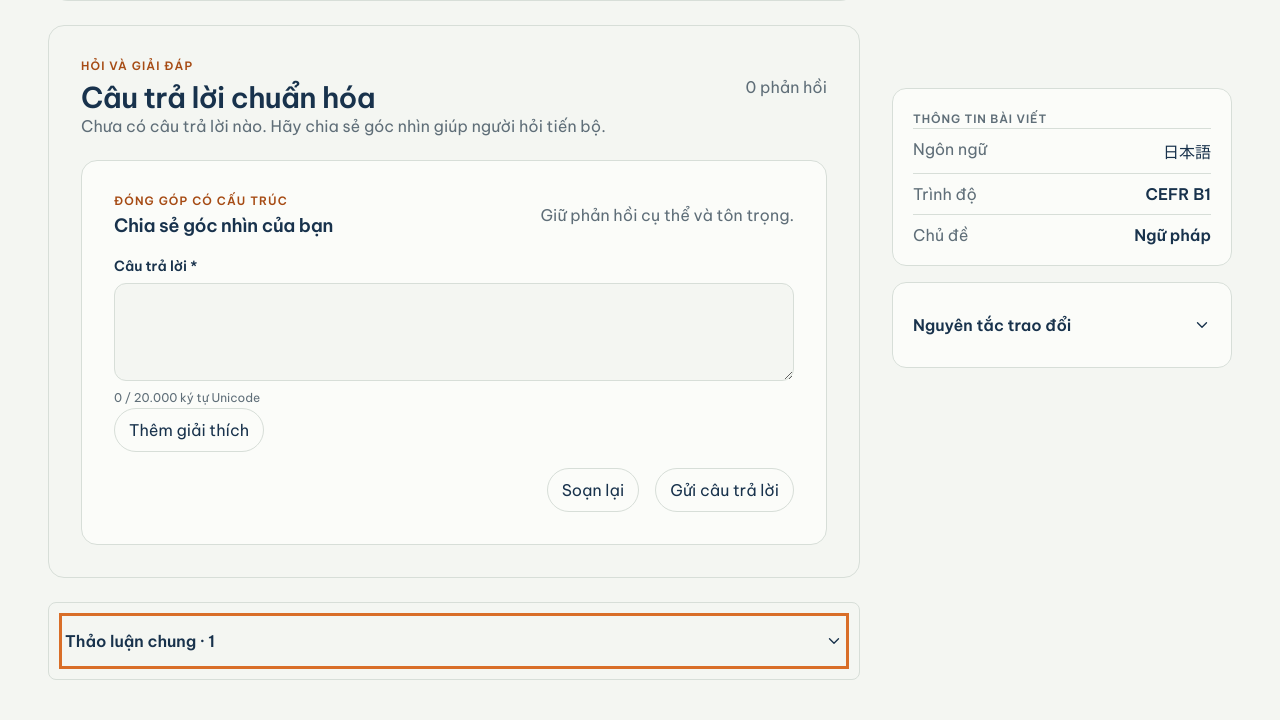
Test case: collapses secondary discussion for QUESTION and preserves keyboard activation
(page scrolled)
Click the heading "Thảo luận chung · 1".
click(140, 641)  # box [65, 631, 843, 651]
(page scrolled)
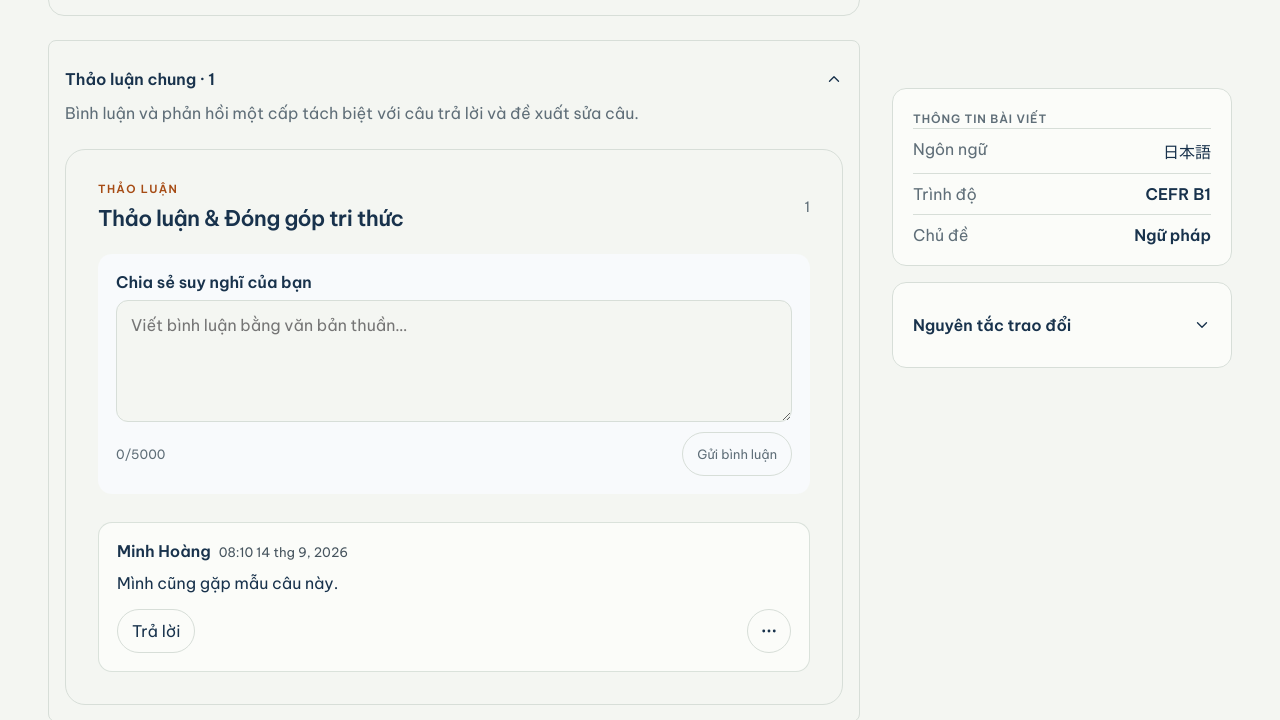
Now the text box labelled "Chia sẻ suy nghĩ của bạn" is shown, box [116, 300, 792, 422]
